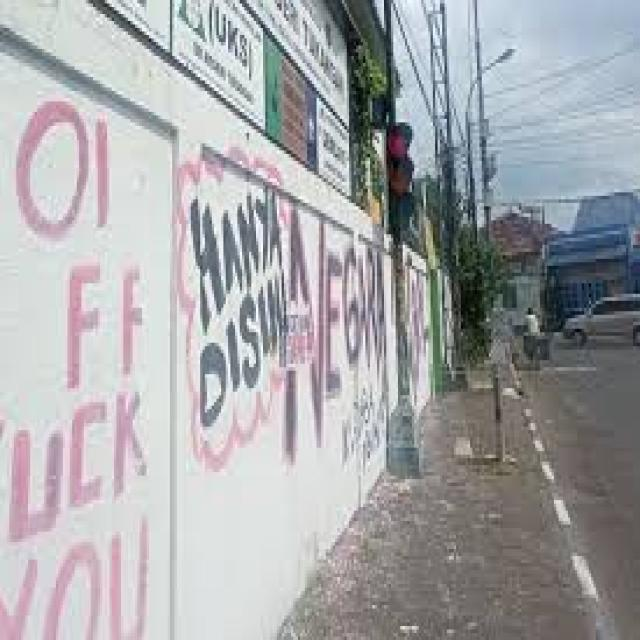-: (0, 96, 150, 640), (176, 144, 388, 470), (406, 261, 429, 395)
